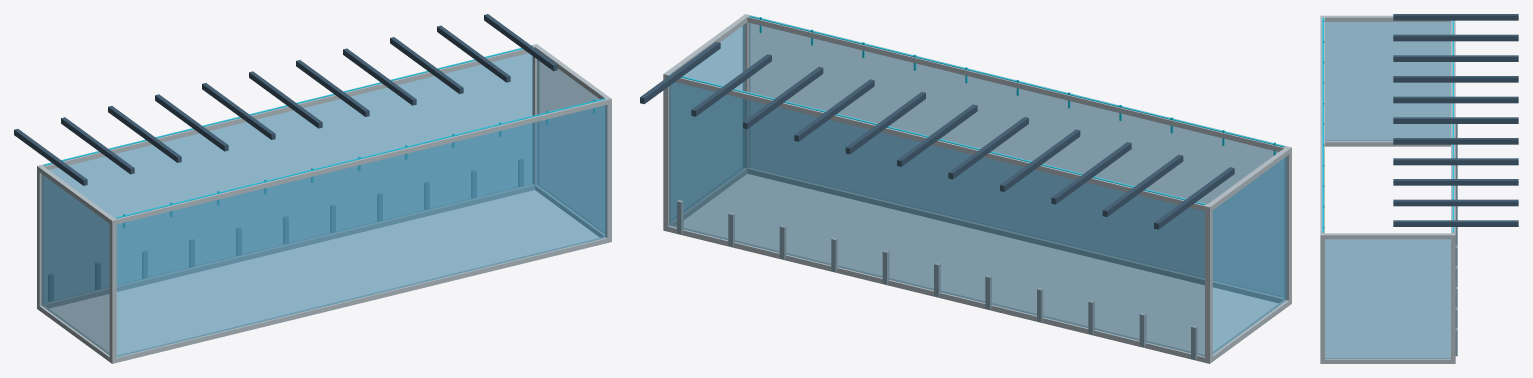
Rendered from 01_L75_TransparentBeamlineSafetyEnclosure.fbx.
3 renders of one model, left to right at view 1: azimuth 30°, elevation 25°; view 2: azimuth 150°, elevation 25°; view 3: azimuth 270°, elevation 25°, orthographic. The views are drawn at different scales.
Visible parts, largest first — view 1: TransparentBeamlineSafetyEnclosure; view 2: TransparentBeamlineSafetyEnclosure; view 3: TransparentBeamlineSafetyEnclosure.
Part boxes in pixels (x1,y1,x2,y2): TransparentBeamlineSafetyEnclosure: (14,14,611,363); TransparentBeamlineSafetyEnclosure: (640,14,1291,363); TransparentBeamlineSafetyEnclosure: (1320,14,1518,363).
Size of the model in its own units: 1345 by 388 by 513.
